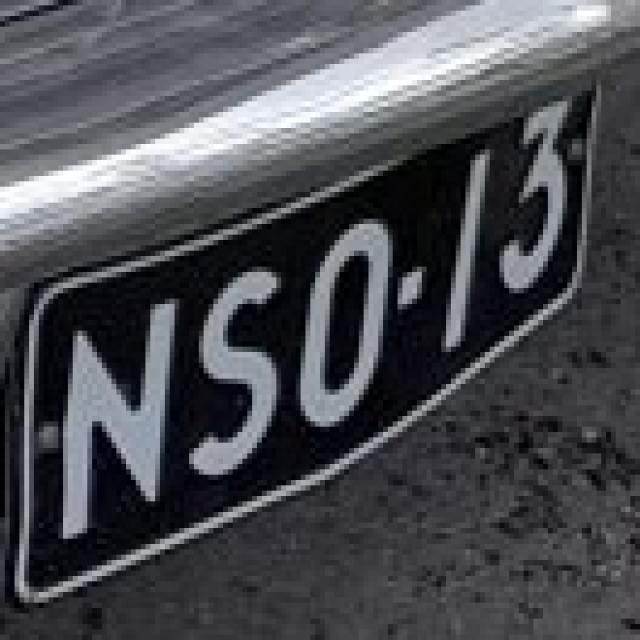0: (281, 202, 407, 426)
1: (416, 117, 499, 352)
3: (485, 80, 582, 294)
N: (39, 277, 184, 539)
S: (174, 250, 291, 480)
